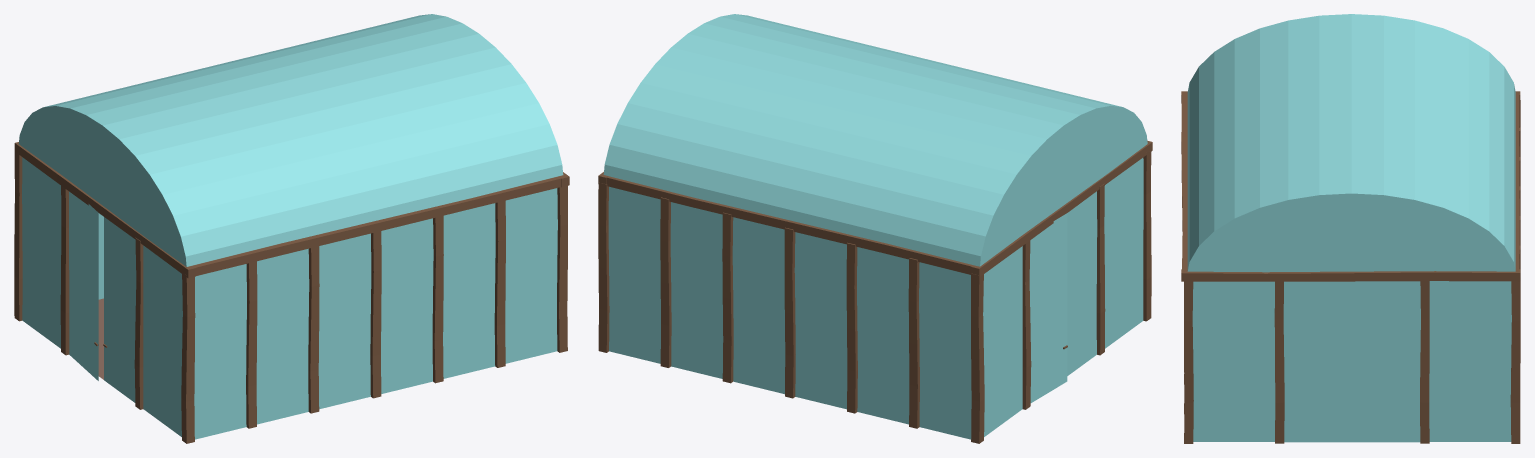
File: VRexp26.glb
3 renders of one model, left to right at view 1: azimuth 30°, elevation 25°; view 2: azimuth 150°, elevation 25°; view 3: azimuth 270°, elevation 25°, orthographic. The views are drawn at different scales.
Parts seen in each view (by area): view 1: Cylinder.001, Plane.013, Plane.005, Plane.006, Plane.004, Plane.002, Plane.001, Plane.003, Plane.015, Plane.016, Cube.019, Cube.015 (+9 smaller); view 2: Cylinder.001, Plane.013, Plane.008, Plane.009, Plane.007, Plane.012, Plane.010, Plane.011, Plane.016, Plane.015, Cube.020, Cube.015 (+9 smaller); view 3: Cylinder.001, Plane.013, Plane.014, Cube.018, Cube.015, Cube.014, Cube.013, Cube.019, Cube.020.
Part boxes in pixels (<box>): Cylinder.001: <box>18,14,563,266</box>; Plane.013: <box>22,157,182,436</box>; Plane.005: <box>443,203,495,378</box>; Plane.006: <box>505,188,557,363</box>; Plane.004: <box>381,218,433,393</box>; Plane.002: <box>256,248,309,424</box>; Plane.001: <box>194,264,246,439</box>; Plane.003: <box>318,233,371,409</box>; Plane.015: <box>104,217,136,402</box>; Plane.016: <box>69,191,98,380</box>; Cube.019: <box>185,173,568,275</box>; Cube.015: <box>60,186,143,409</box>; Cylinder.001: <box>603,14,1147,266</box>; Plane.013: <box>983,158,1143,436</box>; Plane.008: <box>857,247,909,424</box>; Plane.009: <box>794,232,847,409</box>; Plane.007: <box>919,262,971,439</box>; Plane.012: <box>608,186,660,363</box>; Plane.010: <box>732,217,785,394</box>; Plane.011: <box>670,202,723,378</box>; Plane.016: <box>1029,213,1067,402</box>; Plane.015: <box>1067,191,1097,375</box>; Cube.020: <box>606,176,976,274</box>; Cube.015: <box>1022,183,1105,409</box>; Cylinder.001: <box>1187,14,1515,272</box>; Plane.013: <box>1192,281,1511,441</box>; Plane.014: <box>1283,281,1420,442</box>; Cube.018: <box>1181,269,1520,281</box>; Cube.015: <box>1274,281,1429,443</box>; Cube.014: <box>1510,278,1520,443</box>; Cube.013: <box>1184,281,1193,443</box>; Cube.019: <box>1181,92,1191,272</box>; Cube.020: <box>1515,93,1519,269</box>.
Size of the model in its own units: 13.39 by 8.48 by 10.47.
